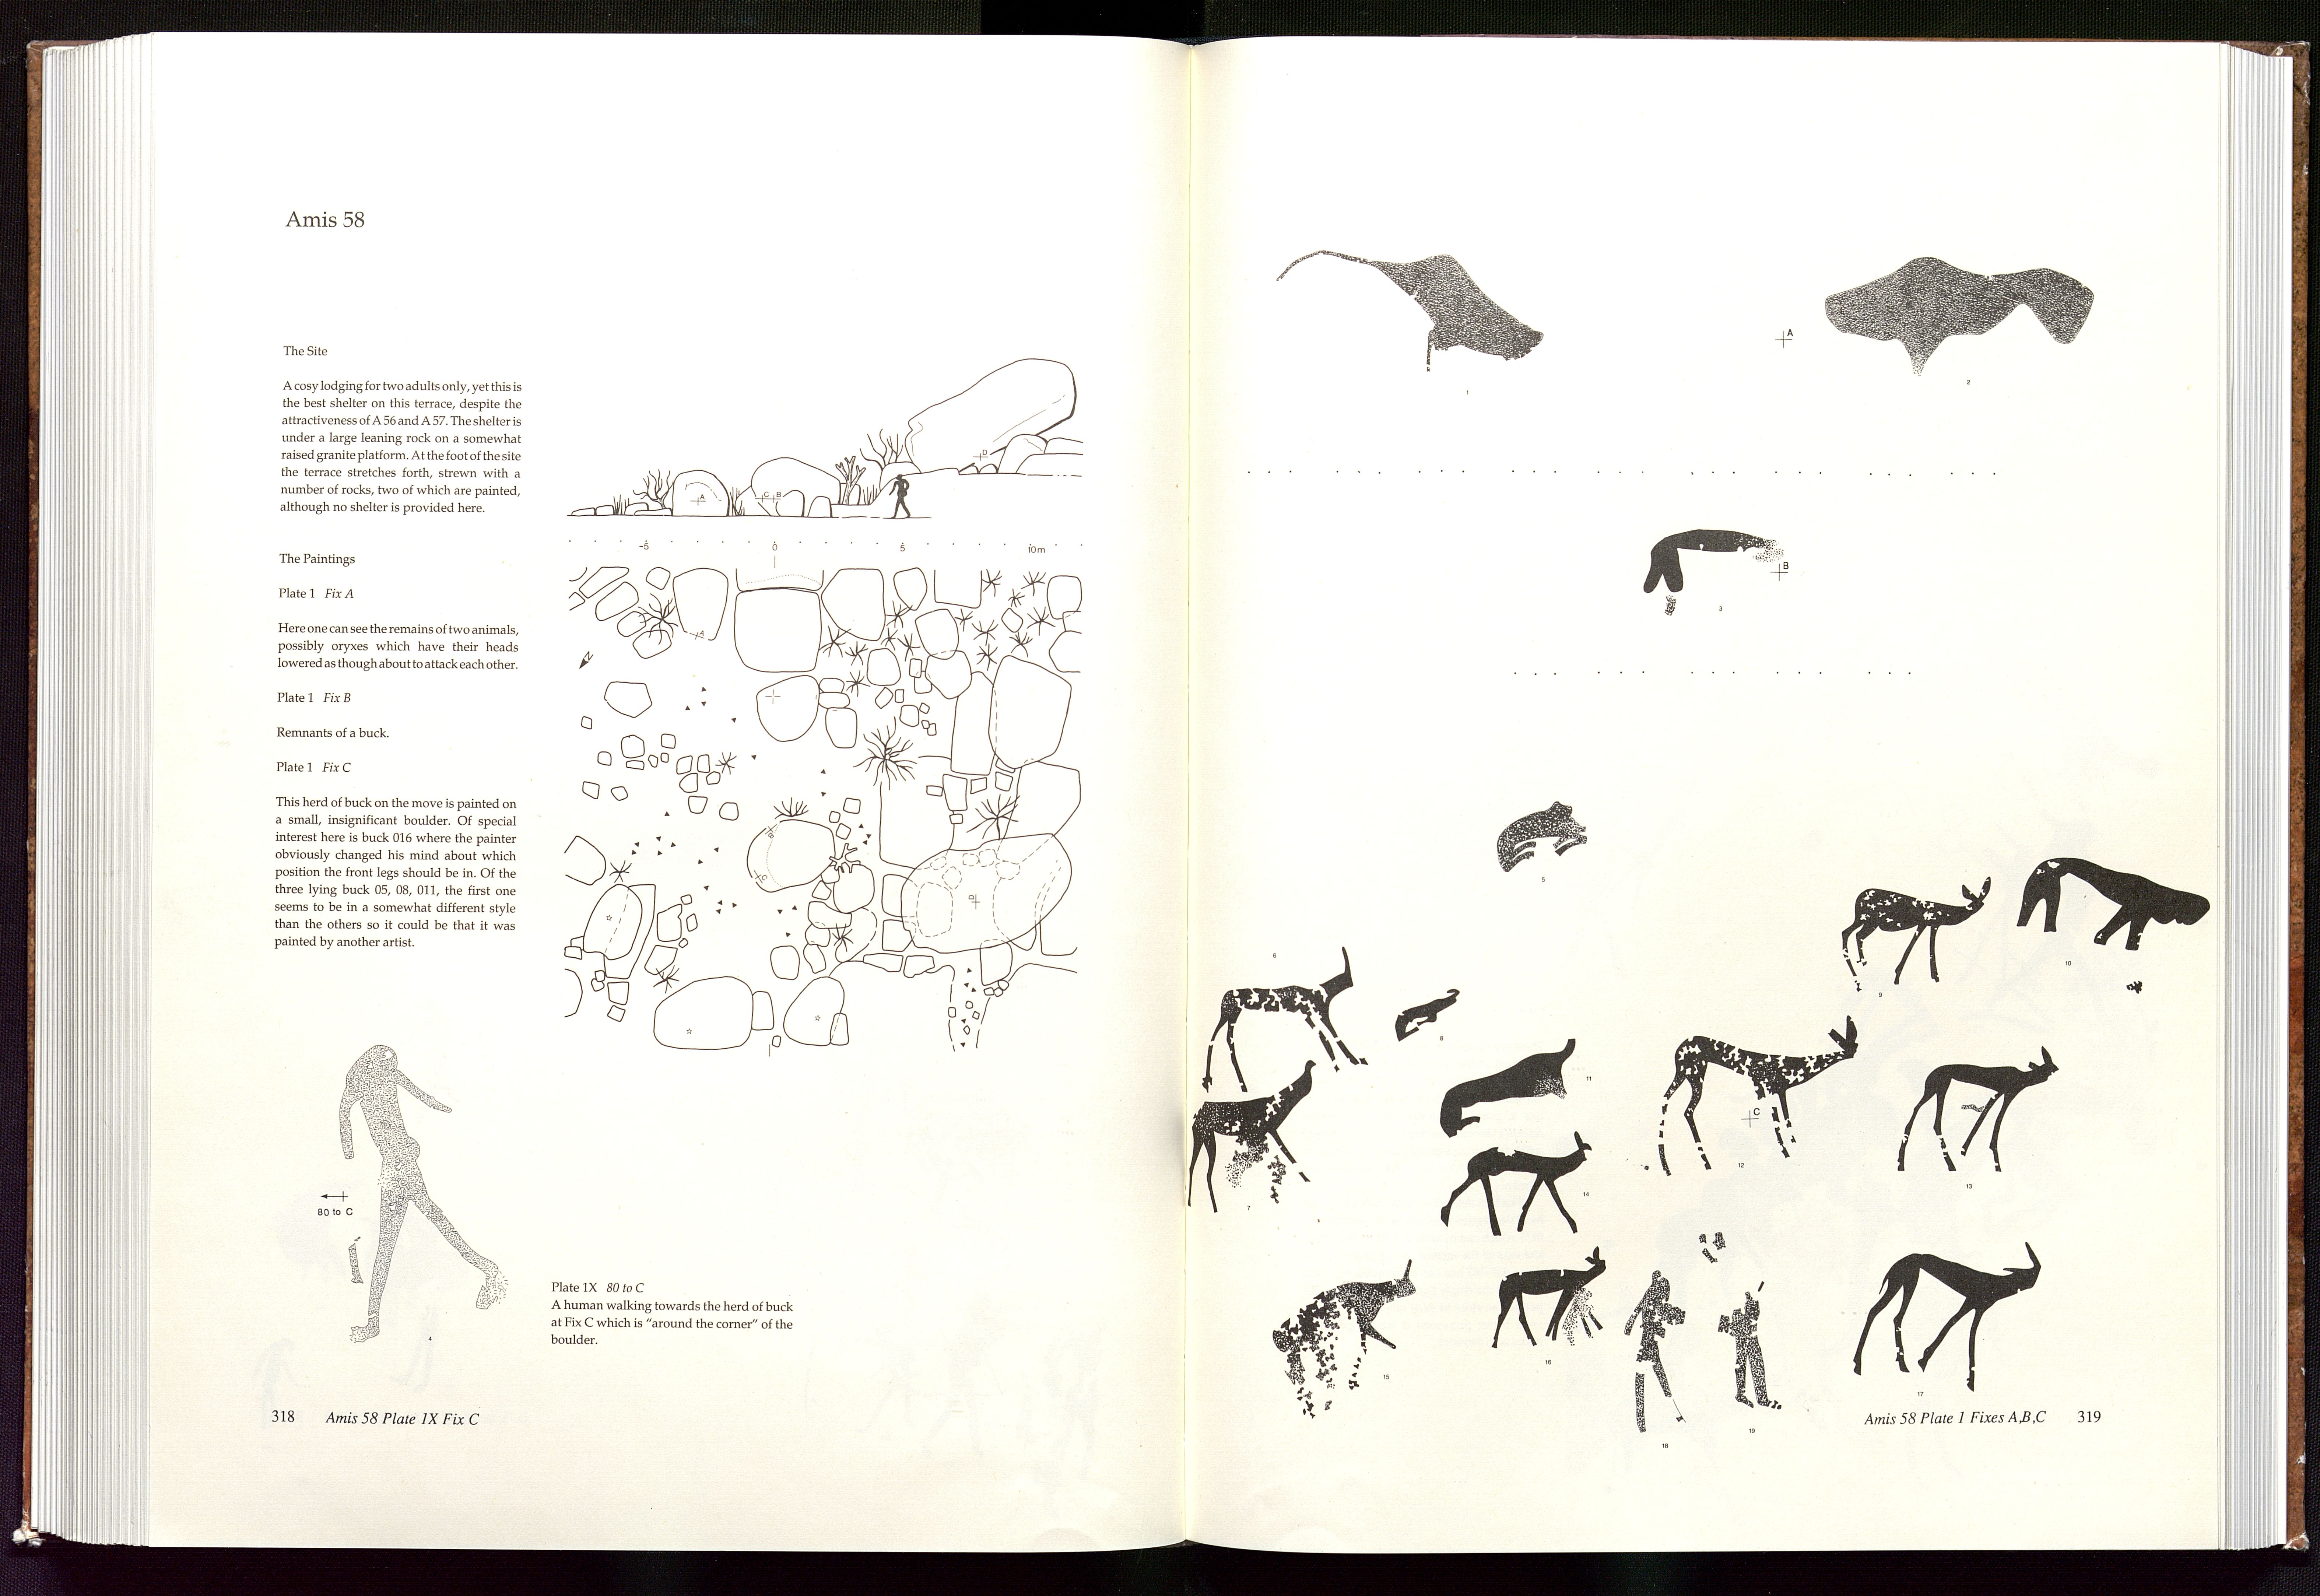animal: (1650, 1019, 1863, 1180), (1845, 1237, 2040, 1393), (2013, 850, 2212, 1001), (1199, 941, 1367, 1098), (1269, 1256, 1417, 1421), (1174, 1060, 1319, 1213), (1891, 1048, 2067, 1174), (1833, 871, 1991, 1000), (1439, 1130, 1594, 1239), (1432, 1029, 1576, 1138), (1492, 1247, 1610, 1344), (1492, 775, 1590, 877), (1391, 983, 1463, 1045), (1562, 1284, 1604, 1352)
human: (314, 1028, 505, 1344), (1624, 1260, 1689, 1436), (1715, 1265, 1784, 1421)
